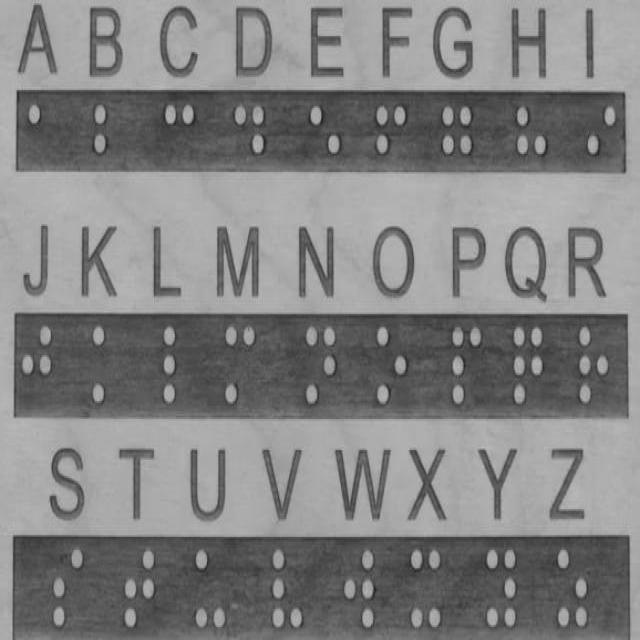braiile: (153, 318, 203, 416), (263, 543, 312, 640), (298, 318, 342, 420), (118, 536, 162, 638), (188, 538, 232, 638), (338, 538, 381, 640), (370, 315, 412, 418), (508, 315, 550, 418), (446, 314, 490, 412), (480, 540, 524, 638), (88, 316, 130, 418), (47, 536, 89, 636), (574, 316, 614, 416), (220, 320, 260, 418), (18, 316, 56, 416), (406, 544, 446, 636), (553, 540, 591, 630)
